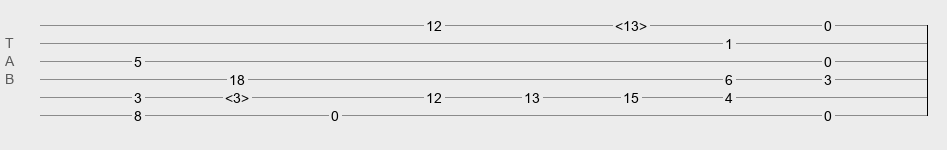0: (331, 108, 339, 118), (824, 54, 832, 64), (824, 18, 832, 28), (824, 108, 832, 118)
1: (725, 36, 733, 46)
12: (426, 18, 442, 28), (426, 90, 442, 100)
13: (524, 90, 540, 100)
15: (623, 90, 639, 100)
18: (229, 72, 245, 82)
3: (134, 90, 142, 100), (824, 72, 832, 82)
4: (725, 90, 733, 100)
5: (134, 54, 142, 64)
6: (725, 72, 733, 82)
8: (134, 108, 142, 118)
harmonic: (615, 18, 647, 28), (225, 90, 249, 100)
